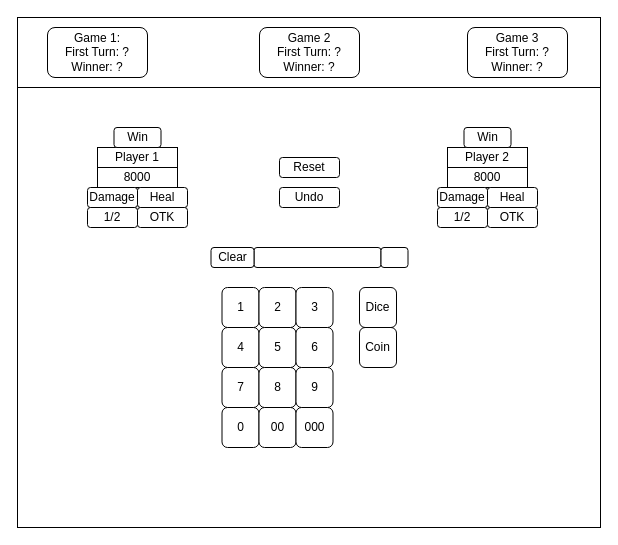
This 618x545 diagram has some shape labels left out. Each missing label, with the box of its shape:
Damage Field: (253, 246, 381, 268)
Del: (380, 246, 408, 268)
